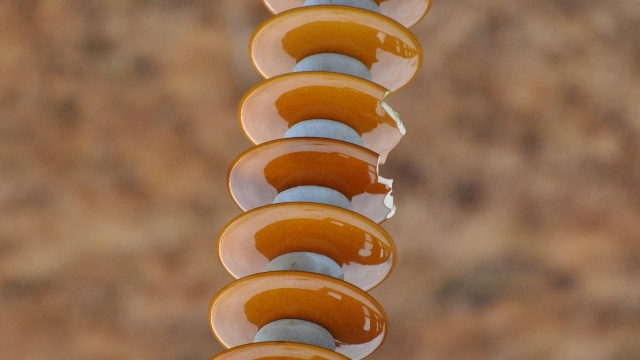broken_local: (370, 150, 407, 222), (379, 83, 410, 168)
insulator_unspecified: (205, 0, 432, 358)
